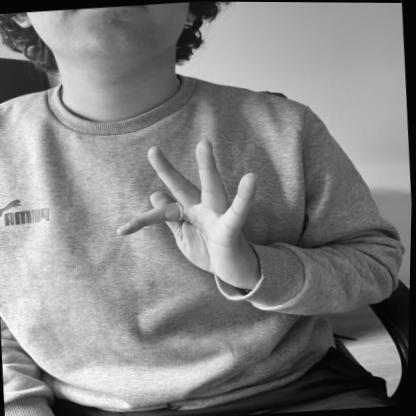F: (101, 127, 273, 293)
